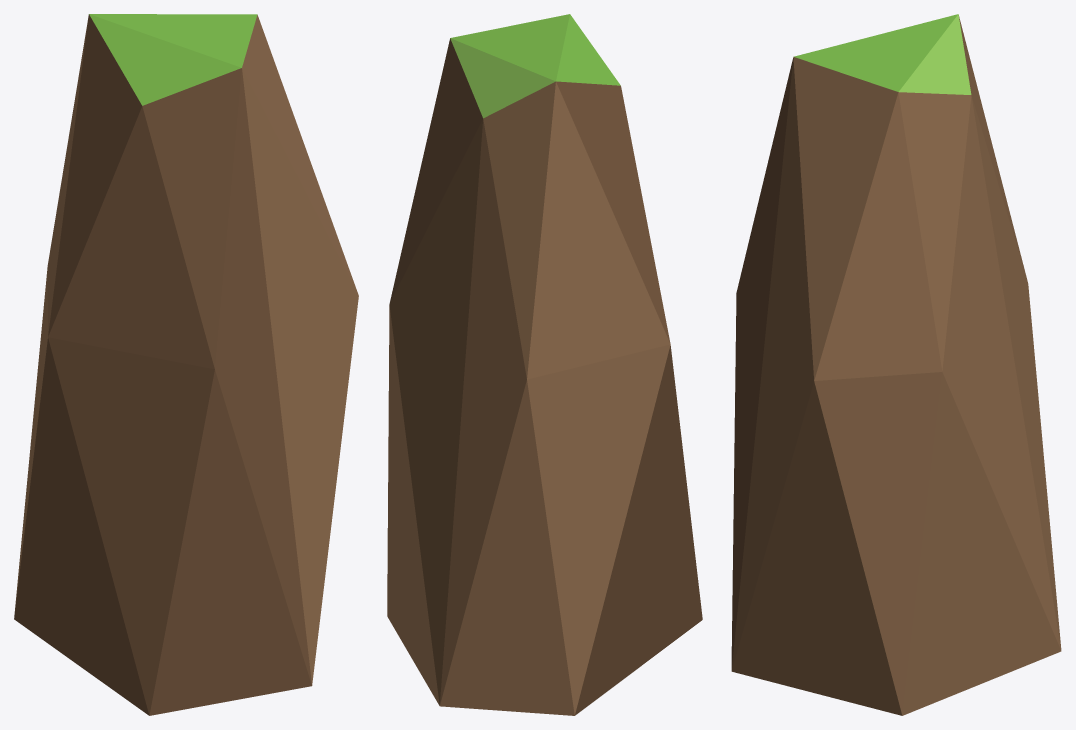
The model's file is rock_tallC.glb.
3 renders of one model, left to right at view 1: azimuth 30°, elevation 25°; view 2: azimuth 150°, elevation 25°; view 3: azimuth 270°, elevation 25°, orthographic.
Parts seen in each view (by area): view 1: rock_tallC; view 2: rock_tallC; view 3: rock_tallC.
Boxes of the visible parts, x1=… form: rock_tallC: x1=14, y1=14, x2=358, y2=715; rock_tallC: x1=387, y1=14, x2=702, y2=715; rock_tallC: x1=731, y1=14, x2=1061, y2=715.
Size of the model in its own units: 0.3708 by 0.7798 by 0.3851.
1 material, 1 textured.
